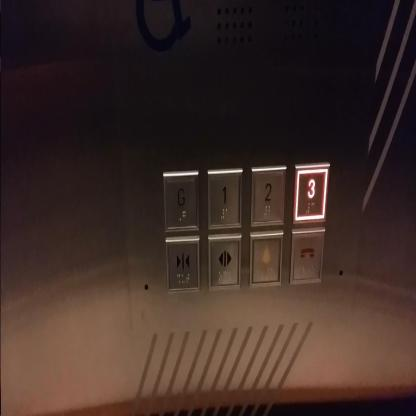1: (205, 169, 243, 228)
2: (248, 165, 286, 226)
3: (292, 162, 329, 224)
G: (162, 168, 199, 231)
alarm: (247, 231, 282, 288)
call: (290, 228, 325, 284)
close: (165, 234, 201, 294)
open: (206, 231, 242, 291)
